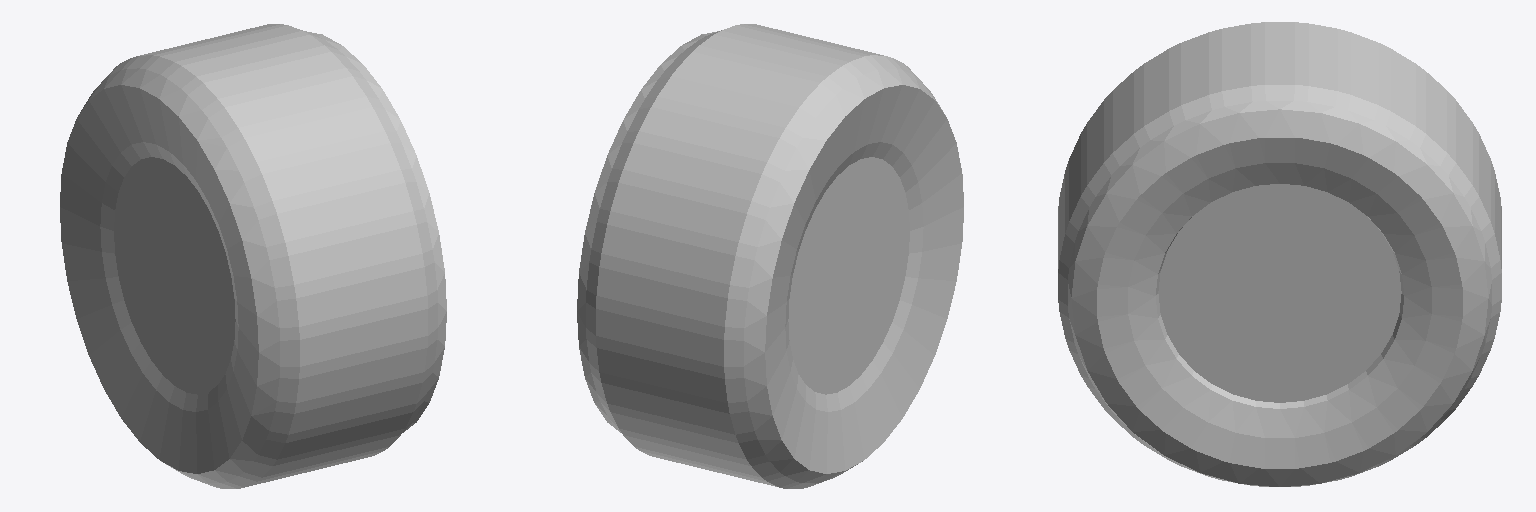
File: RuedaFD.obj
3 views of the same model, side by side, from view 1: azimuth 30°, elevation 25°; view 2: azimuth 150°, elevation 25°; view 3: azimuth 270°, elevation 25° (orthographic).
Parts seen in each view (by area): view 1: Roda.002_Plastico_Preto; view 2: Roda.002_Plastico_Preto; view 3: Roda.002_Plastico_Preto, Roda.002_Material.006.
Part boxes in pixels (x1,y1,x2,y2): Roda.002_Plastico_Preto: (60, 24, 446, 488); Roda.002_Plastico_Preto: (577, 24, 963, 488); Roda.002_Plastico_Preto: (1058, 22, 1501, 486); Roda.002_Material.006: (1158, 184, 1401, 402).
Size of the model in its own units: 0.0523 by 0.1039 by 0.1039.